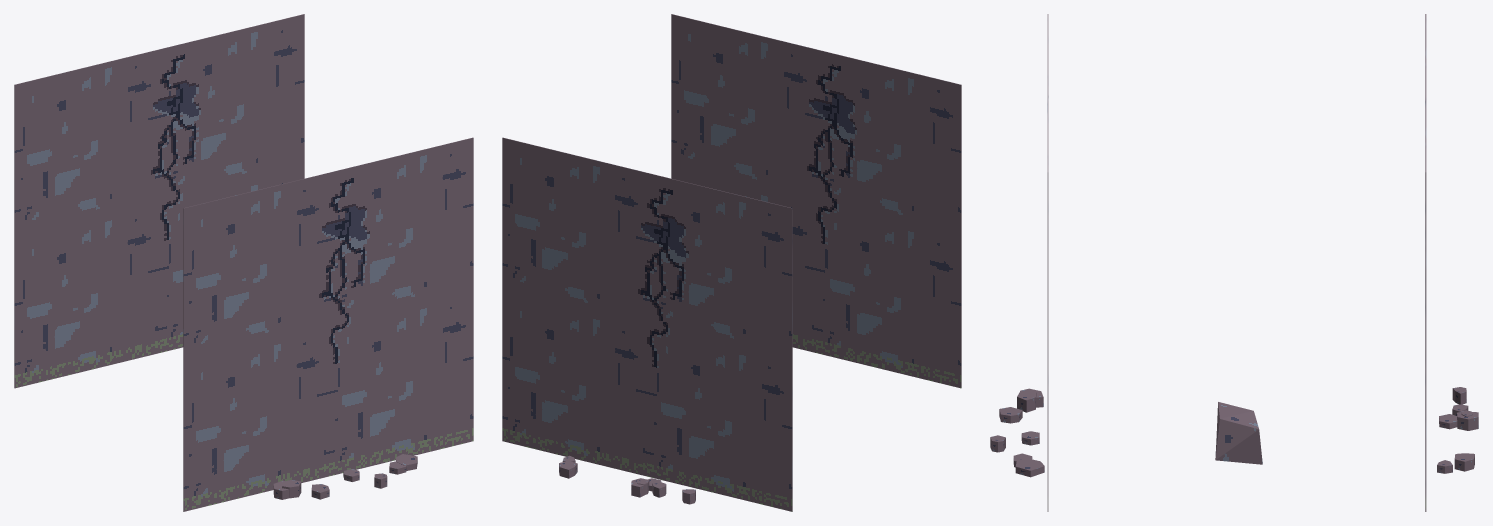
File: cracked_wall_c.glb
The picture shows the model from 3 angles, left to right: view 1: azimuth 30°, elevation 25°; view 2: azimuth 150°, elevation 25°; view 3: azimuth 270°, elevation 25°; orthographic projection. The views are drawn at different scales.
Visible parts, largest first — view 1: panel_front, panel_back, debris_front; view 2: panel_back, panel_front, debris_back; view 3: chunk, debris_front, debris_back, panel_back, panel_front.
Part boxes in pixels (<box>): panel_front: <box>183,137,473,511</box>; panel_back: <box>14,14,304,388</box>; debris_front: <box>273,454,417,499</box>; panel_back: <box>502,137,792,511</box>; panel_front: <box>671,14,961,388</box>; debris_back: <box>559,455,695,504</box>; chunk: <box>1215,402,1262,464</box>; debris_front: <box>990,388,1044,477</box>; debris_back: <box>1437,387,1478,473</box>; panel_back: <box>1425,14,1426,511</box>; panel_front: <box>1047,14,1048,511</box>.
Bounding box in the file's own units: 2 × 2.14 × 2.61.
Materials: 1 (1 with a texture image).
